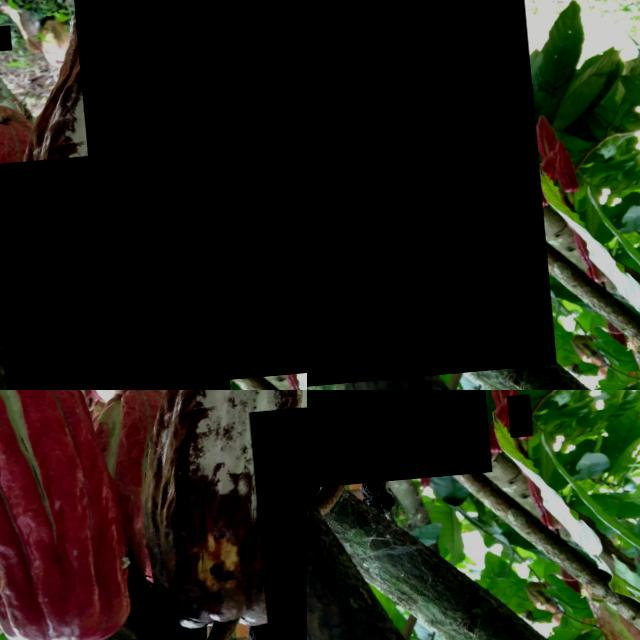Monilia: (307, 390, 483, 495)
Sana: (68, 0, 307, 390), (307, 0, 545, 390), (0, 152, 229, 390), (245, 406, 307, 640), (452, 426, 478, 475), (481, 390, 509, 428), (501, 404, 525, 446), (411, 466, 436, 496), (633, 572, 640, 609), (0, 29, 9, 55)
